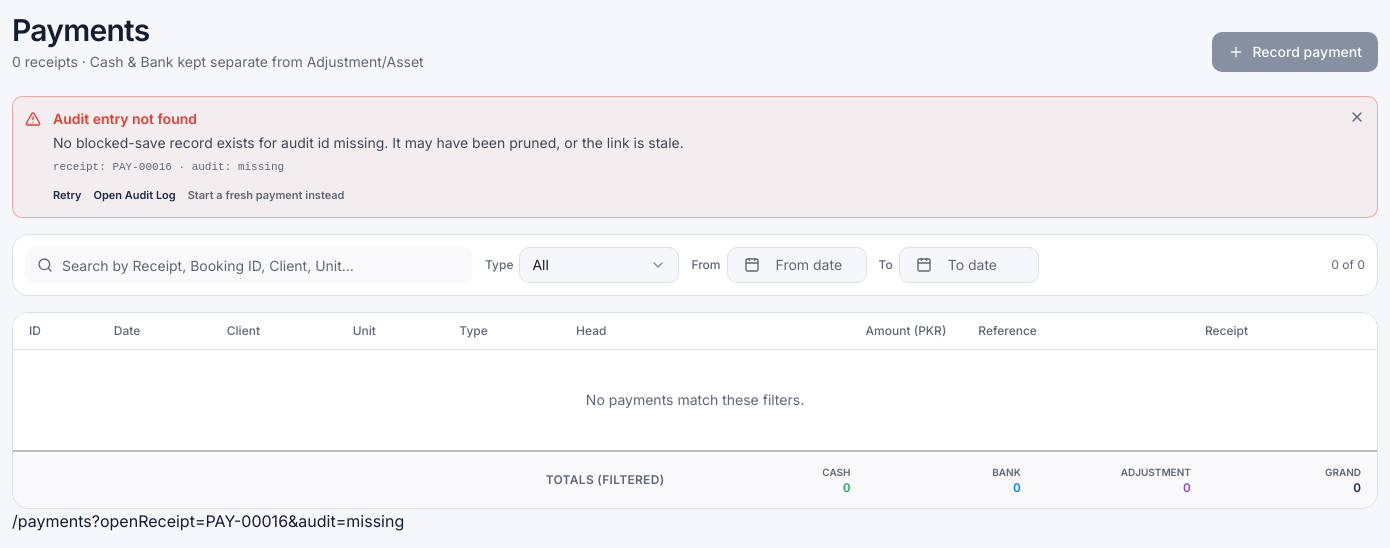
Test case: Payments replay-error banner › 'Start a fresh payment instead' shortcut clears banner and URL params
Expected: the message is shown, [12,96,1378,218]
Click the button "Start a fresh payment instead". click: (266, 195)
box: [188,185,344,205]
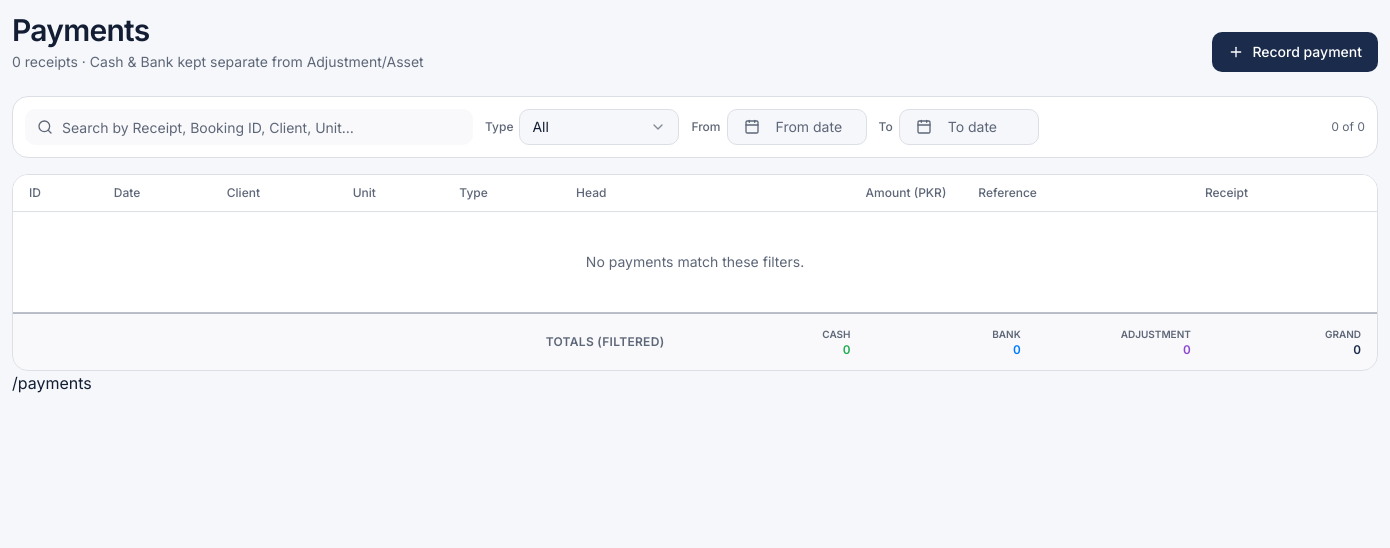
Expected: the message is gone
Expected: the text with test id "location" no longer shows "openReceipt"
Expected: the text with test id "location" no longer shows "audit="
